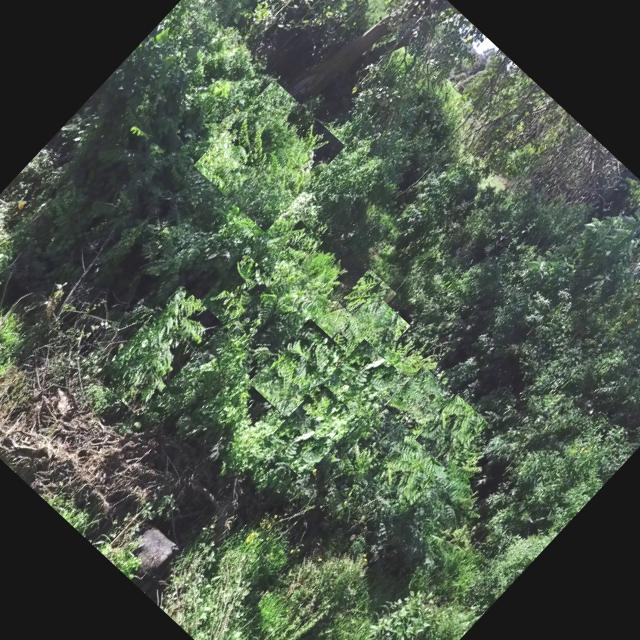Mysore-Thorn-Weed: (192, 80, 344, 233), (94, 284, 224, 416), (292, 339, 402, 451), (369, 404, 474, 511), (227, 254, 326, 354), (248, 318, 346, 417), (263, 382, 359, 480), (398, 454, 490, 546), (319, 293, 410, 385), (199, 252, 274, 328), (414, 394, 488, 468), (372, 326, 444, 399), (384, 365, 454, 436), (338, 268, 397, 328), (336, 436, 388, 489), (276, 220, 323, 268)
